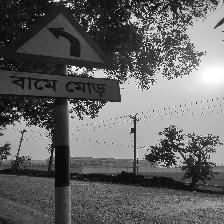Left-Turn: (0, 5, 120, 104)
